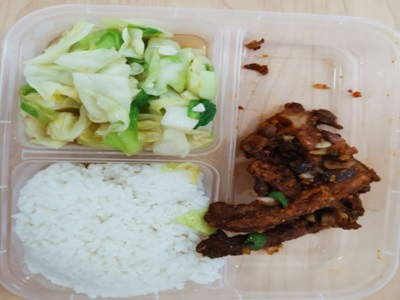cct: (32, 24, 209, 153)
rice: (21, 167, 204, 290)
yt: (240, 100, 364, 259)
